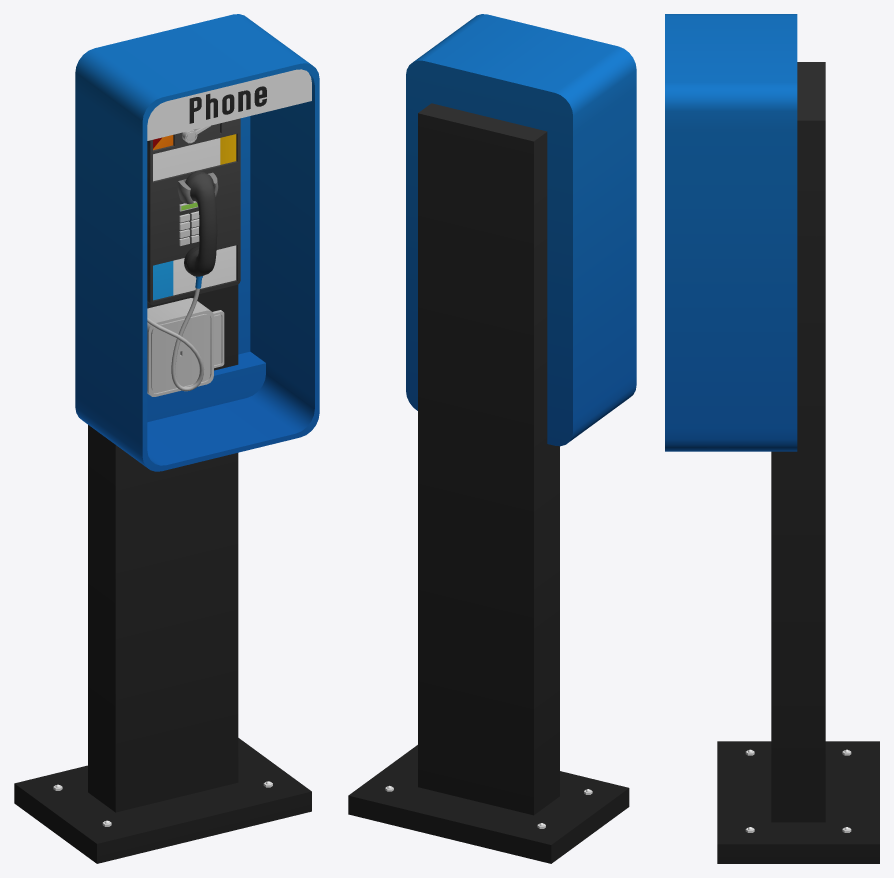
Rendered from payphone_stand.glb.
3 renders of one model, left to right at view 1: azimuth 30°, elevation 25°; view 2: azimuth 150°, elevation 25°; view 3: azimuth 270°, elevation 25°, orthographic. The views are drawn at different scales.
Visible parts, largest first — view 1: payphone_stand; view 2: payphone_stand; view 3: payphone_stand.
Boxes of the visible parts, box(x1,y1,x2,y2) form: payphone_stand: box(14, 14, 319, 863); payphone_stand: box(348, 14, 636, 863); payphone_stand: box(665, 14, 879, 863).
Bounding box in the file's own units: 0.45 × 1.55 × 0.3963.
3 materials, 3 textured.
